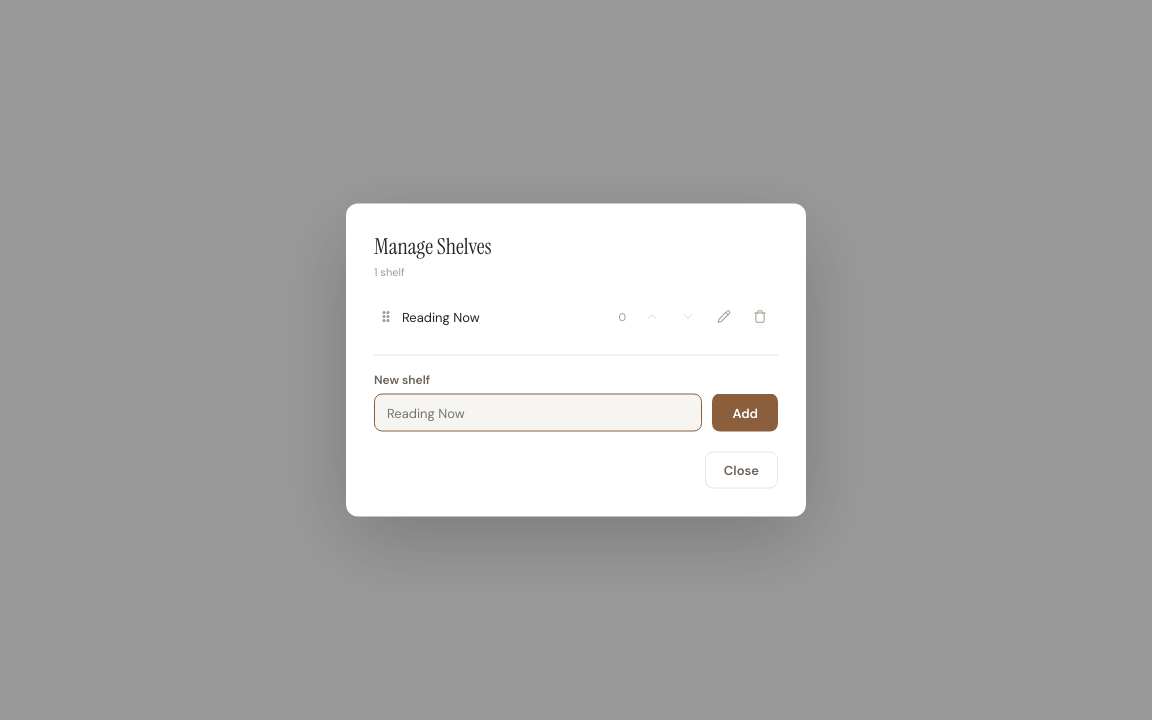
Test: ShelfManager › explains what publishing does, and only when it is about to happen
expect the text "Reading Now" is shown: met, box 402,308 -> 480,325
Click the button named "Edit Reading Now": (724, 316) 710,302 -> 738,330
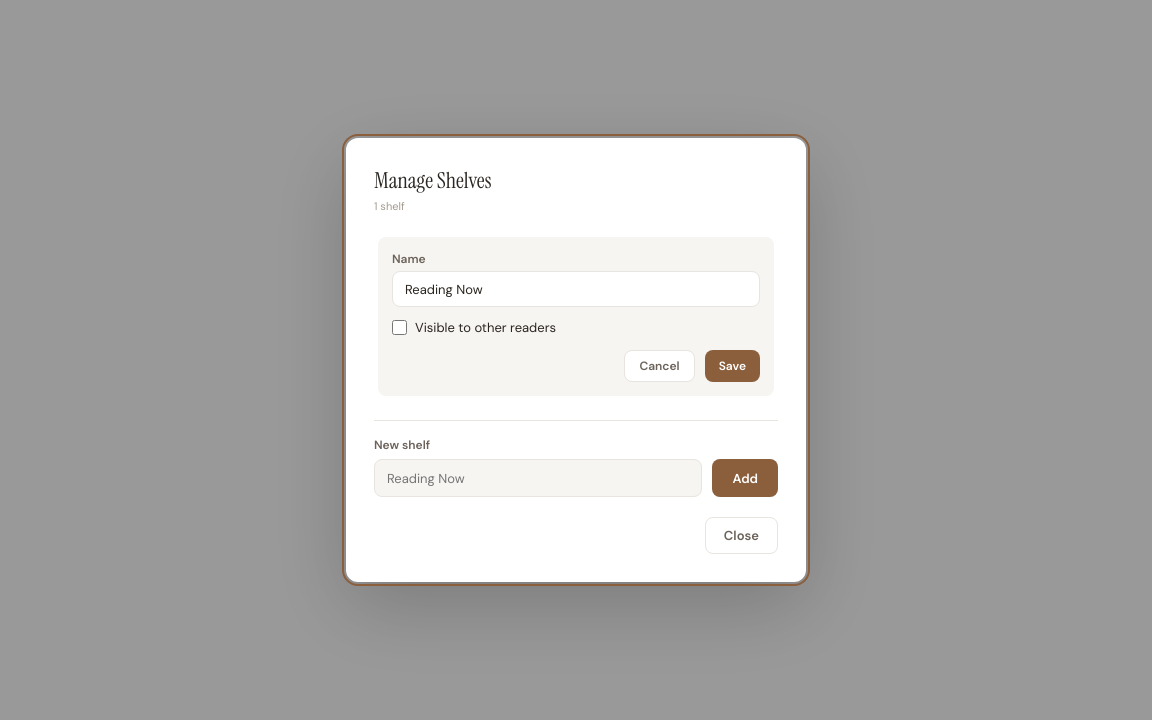
expect the text "Anyone with an account can see" is not shown: met
Click the checkbox labelled "Visible to other readers": (400, 328) 392,320 -> 407,335
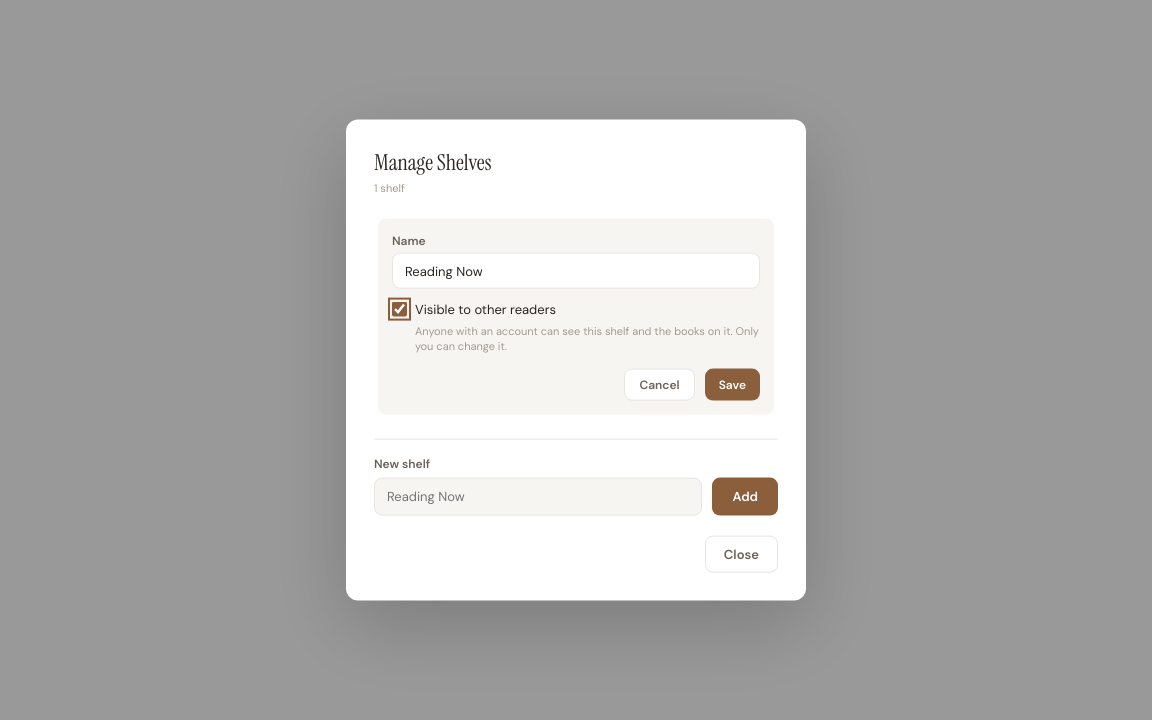
expect the text "Anyone with an account can see this shelf" is shown: met, box 415,324 -> 759,353
